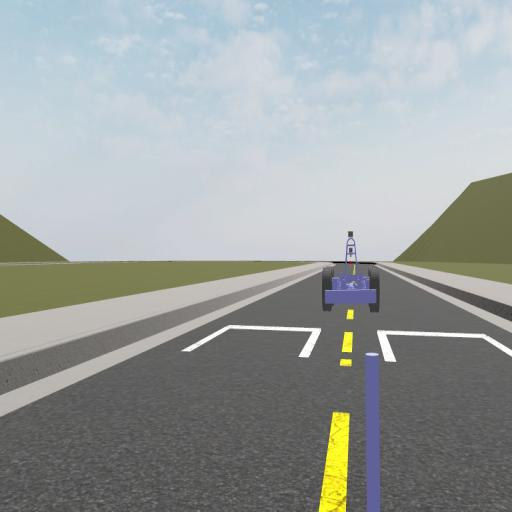ERP-42: (322, 230, 379, 310)
